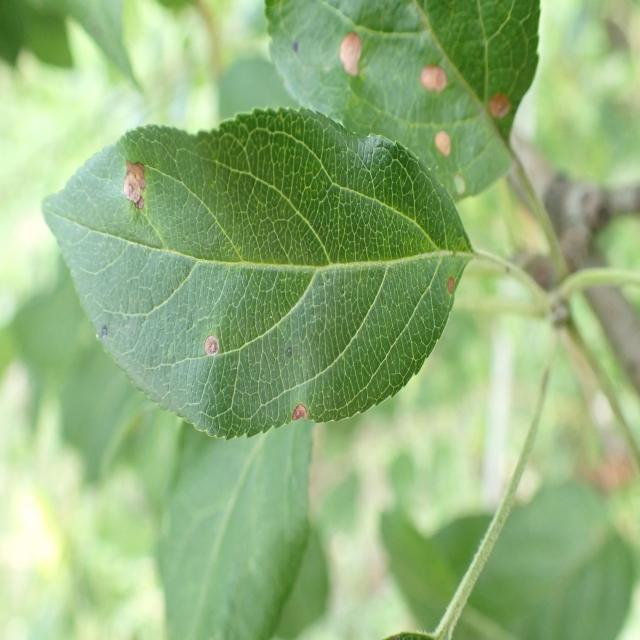frog-eye-leaf-spot: (42, 108, 474, 440), (264, 1, 541, 202)
